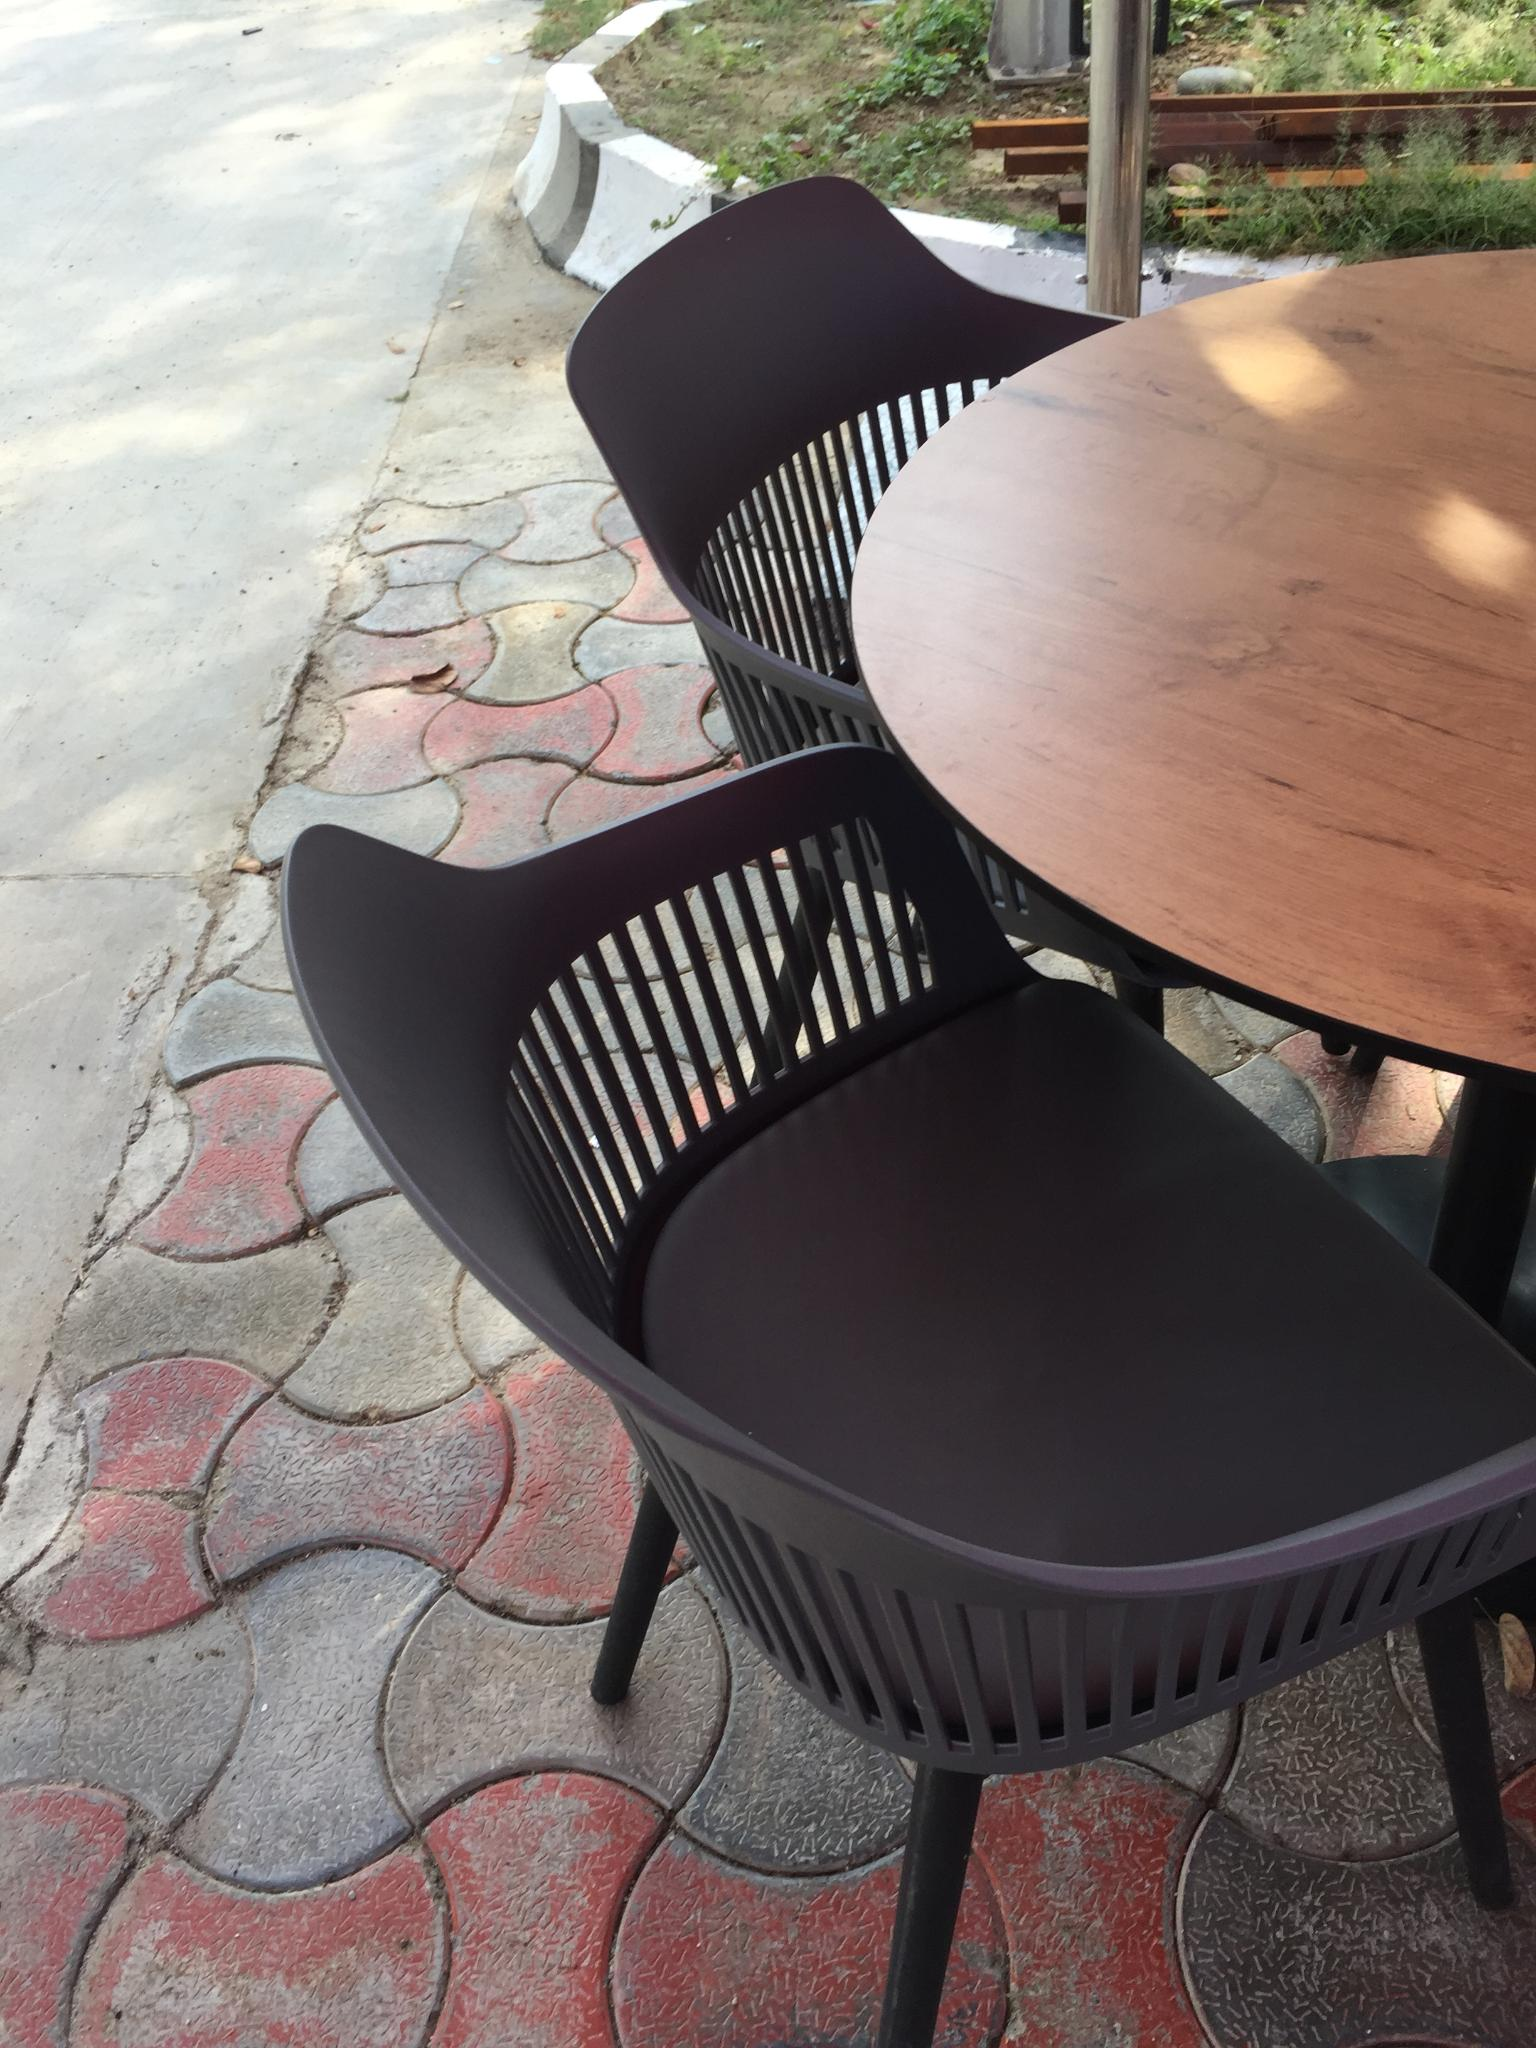chair: (279, 742, 1534, 2045), (545, 127, 1413, 1103)
